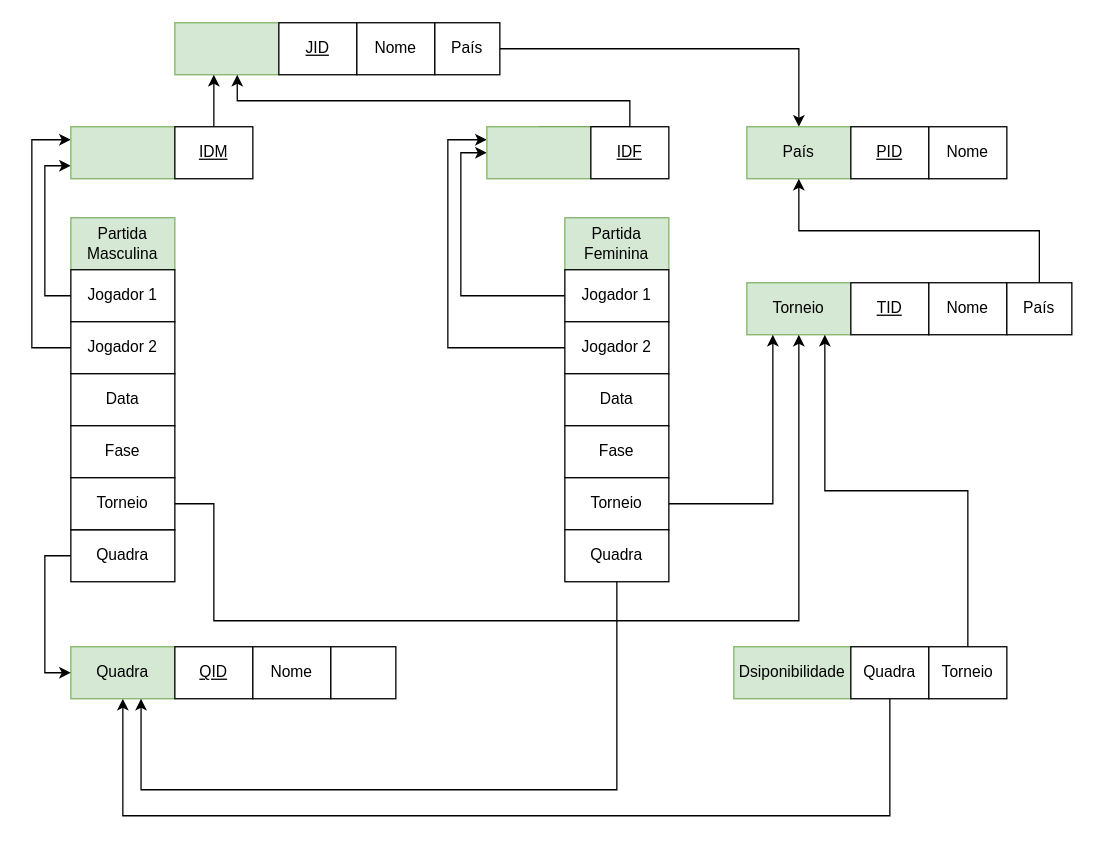
Image size: 1095x849. Some labels were removed from this diagram. Each missing label, with the centre of its shape:
"Jogador" goes at (226,48).
"Jogador Feminino" goes at (538,152).
"Jogador Masculino" goes at (122,152).
"Piso" goes at (363,672).
